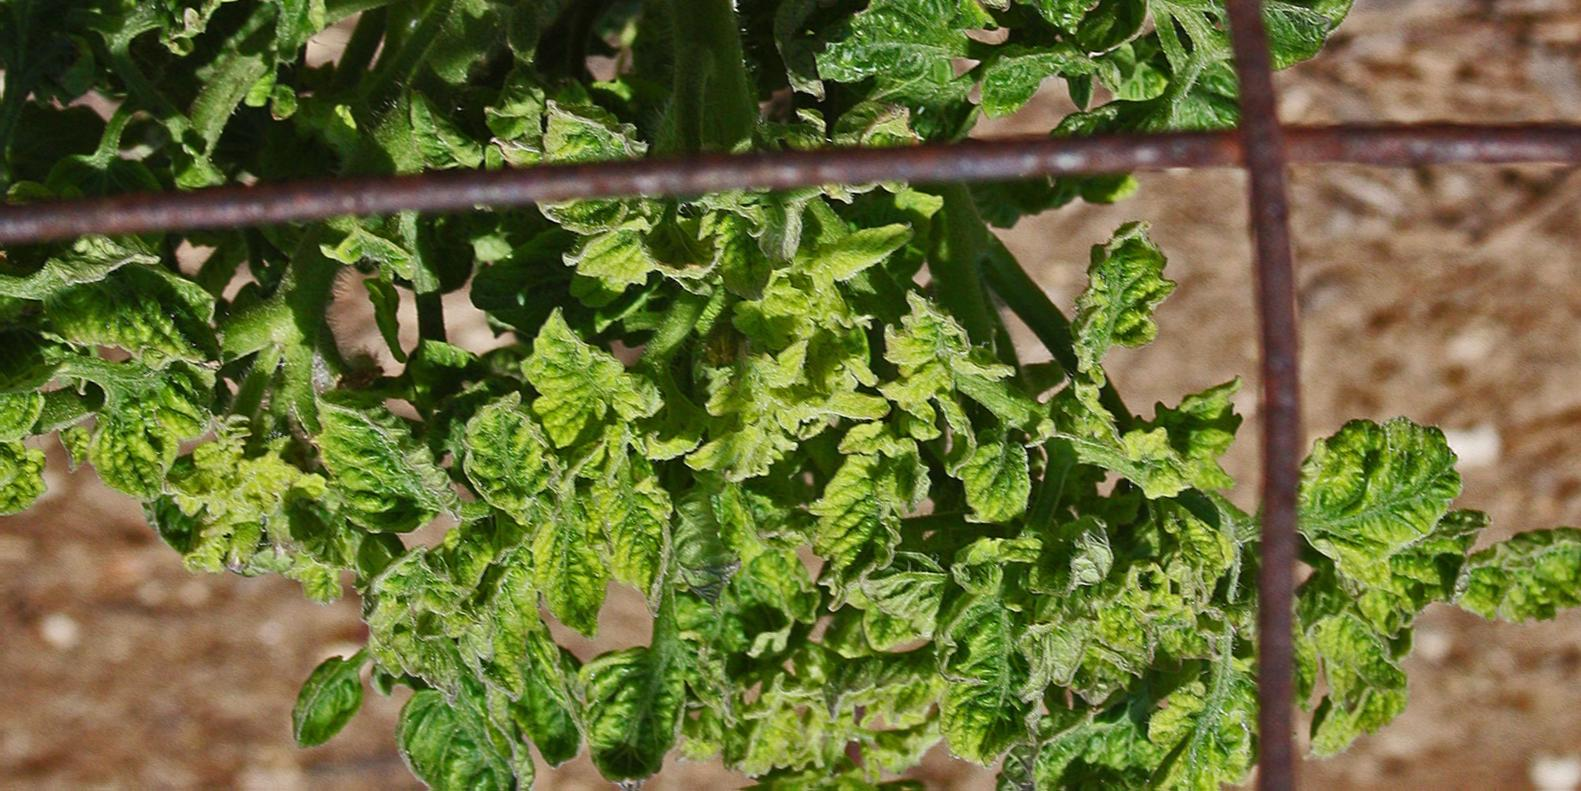Tomato leaf yellow virus: (1284, 382, 1469, 566), (0, 240, 222, 375), (294, 379, 469, 534), (562, 631, 722, 791), (812, 391, 926, 611), (373, 669, 566, 791), (803, 0, 1025, 105), (1301, 566, 1429, 738), (935, 578, 1048, 768), (452, 384, 580, 550), (1062, 216, 1178, 379), (517, 298, 652, 438), (690, 328, 810, 483), (1122, 650, 1248, 791), (1105, 384, 1242, 505), (586, 430, 683, 597), (531, 459, 609, 665), (1452, 516, 1581, 637), (570, 210, 722, 302), (73, 415, 194, 516), (956, 424, 1058, 525), (999, 0, 1158, 64), (798, 214, 928, 284), (190, 0, 322, 63), (0, 378, 58, 448)
